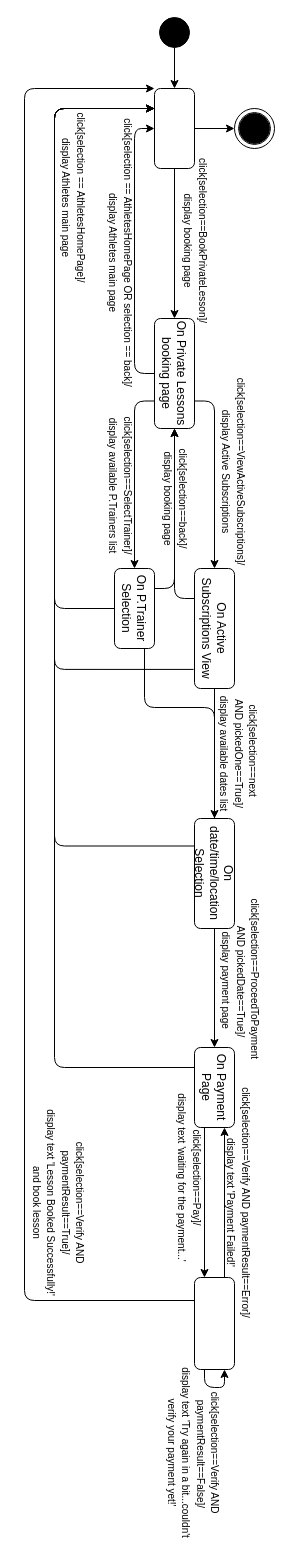
This 292x1564 diagram has some shape labels left out. The centre of each missing label's shape, as x and y in pixels:
"On Athletes main page" goes at point (174, 128).
"On Transaction Validation" goes at point (214, 1323).
